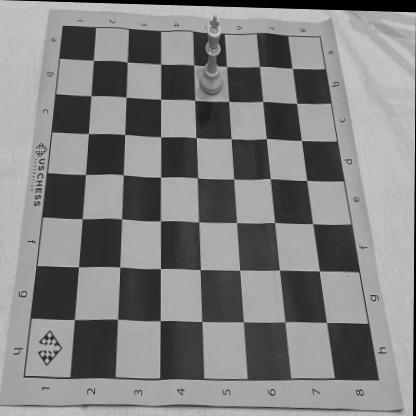white-king: (200, 13, 224, 96)
